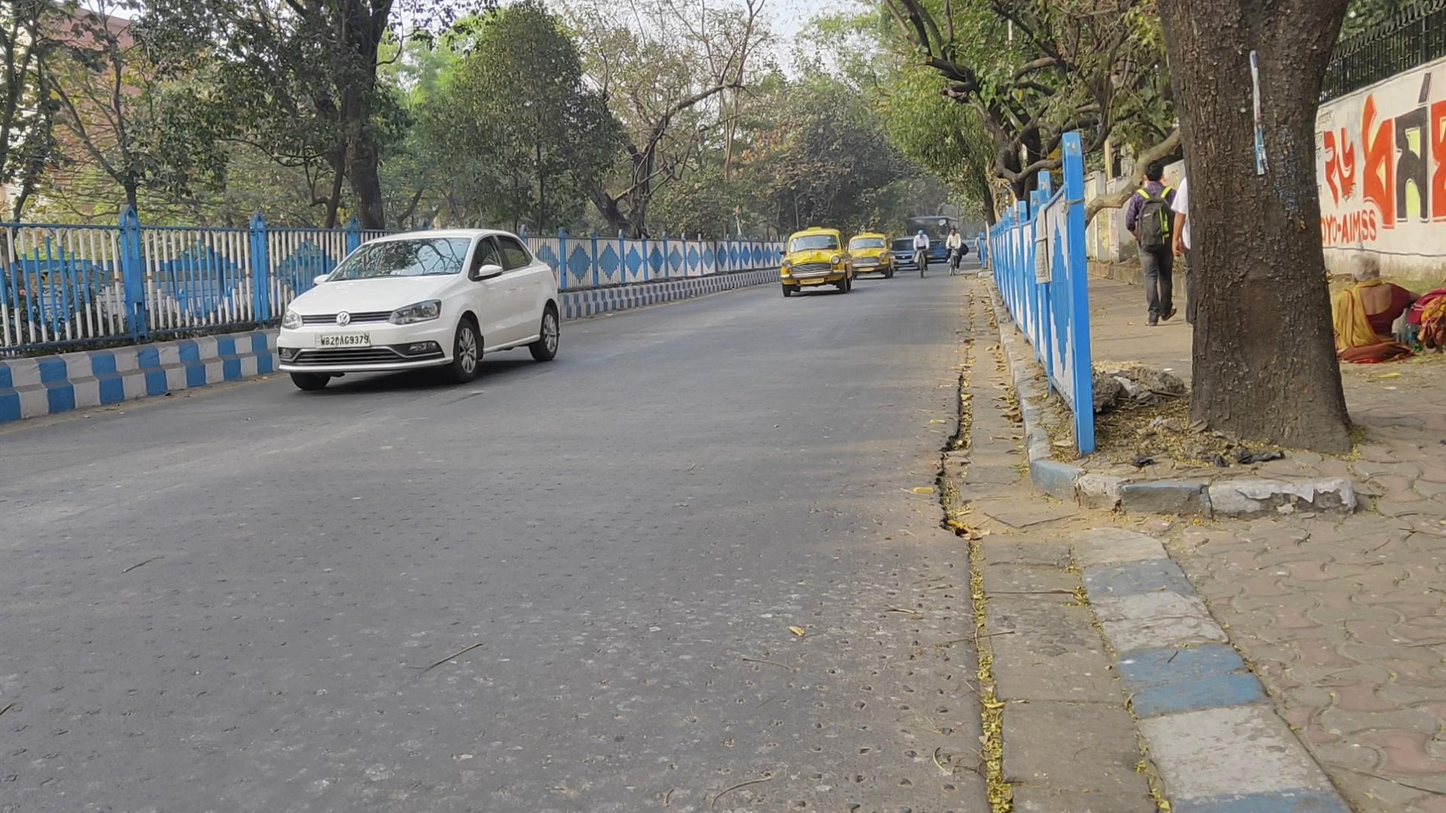Bus: (906, 216, 959, 263)
bike: (944, 228, 965, 276), (913, 230, 930, 277)
car: (276, 227, 562, 389), (781, 227, 853, 295), (849, 233, 895, 278), (892, 236, 922, 271)
